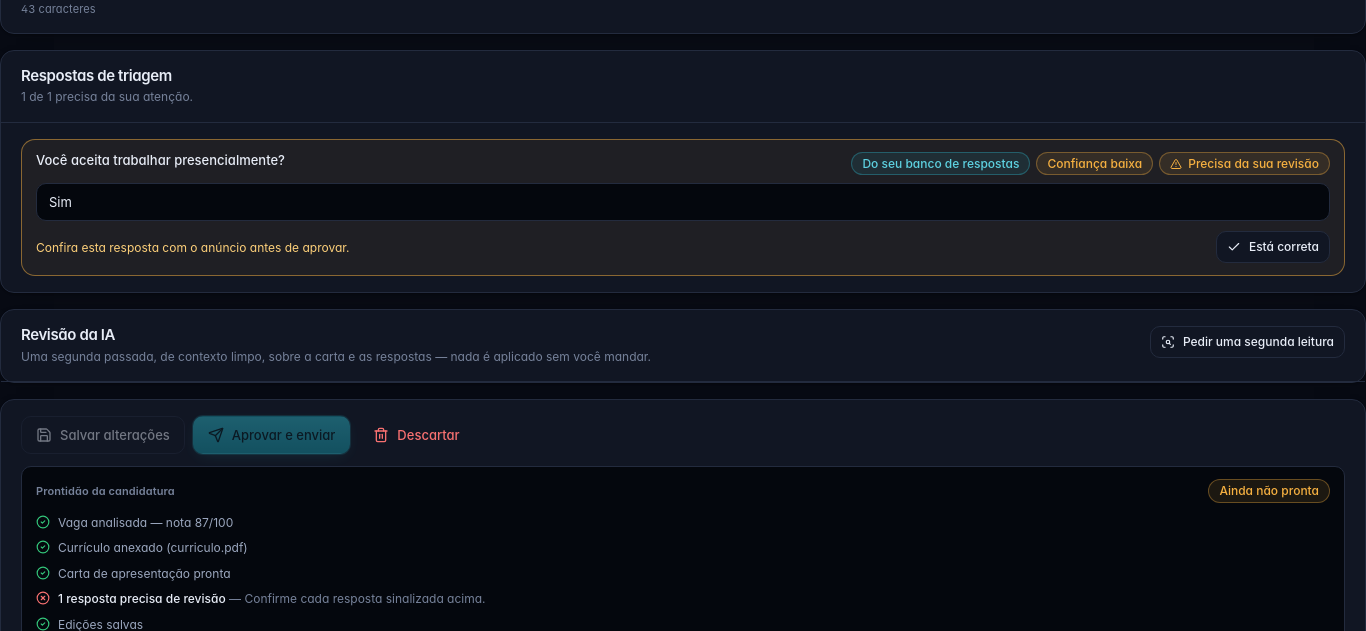
ApplicationReviewPanel approval gate › keeps approval disabled after confirming an answer until the edit is saved
(page scrolled)
What coordinates should you click on to do the following:
click the button "Está correta"
I would click on:
 (1273, 247)
Its box is [1216,232,1330,263].
(page scrolled)
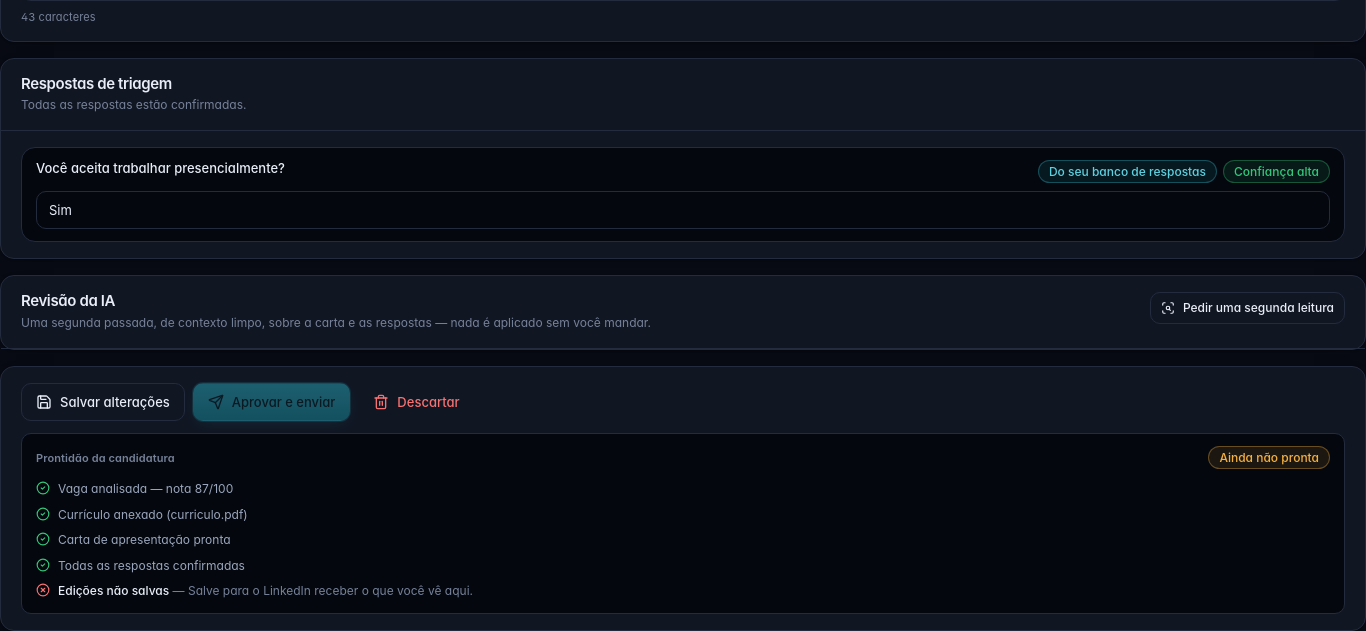
Expected: the button "Aprovar e enviar" is disabled, [193,383,350,421]
Expected: the text "Todas as respostas confirmadas" is shown, [58,558,245,573]
Expected: the text "Edições não salvas" is shown, [58,583,169,598]
